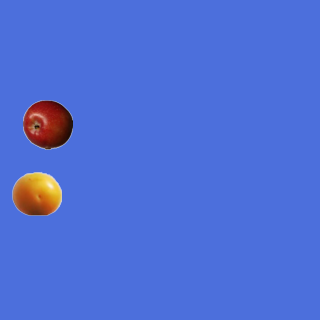Apple Braeburn: (22, 99, 72, 149)
Cherry Wax Yellow: (11, 168, 61, 218)
